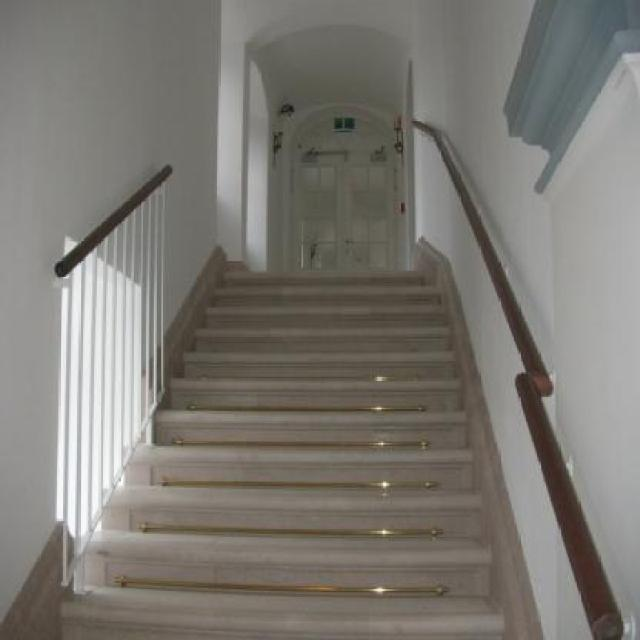stair: (57, 257, 520, 640)
